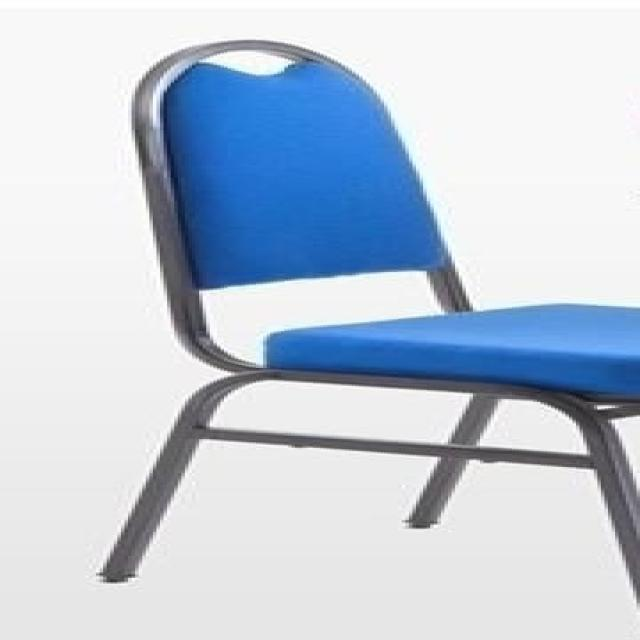chair: (92, 34, 640, 594)
